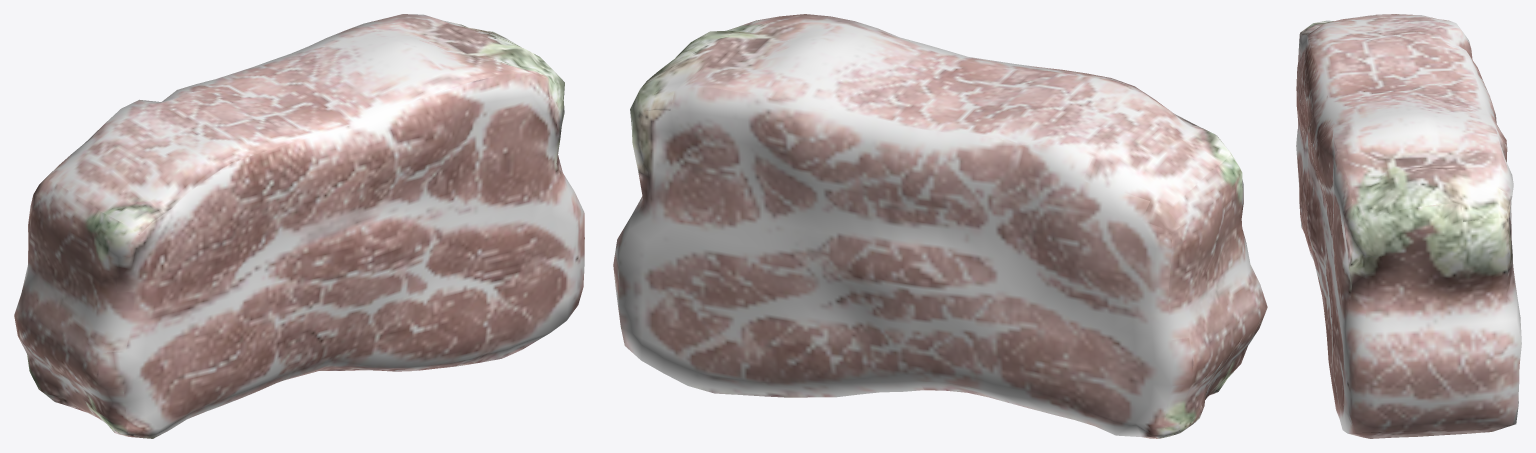
The model's file is animal_fat.a9f844df2d.glb.
The picture shows the model from 3 angles, left to right: view 1: azimuth 30°, elevation 25°; view 2: azimuth 150°, elevation 25°; view 3: azimuth 270°, elevation 25°; orthographic projection. The views are drawn at different scales.
Visible parts, largest first — view 1: animal_fat; view 2: animal_fat; view 3: animal_fat.
Part boxes in pixels (x1,y1,x2,y2): animal_fat: (14,14,584,438); animal_fat: (613,14,1267,438); animal_fat: (1296,14,1521,438).
Size of the model in its own units: 0.13 by 0.0717 by 0.0527.
Materials: 1 (1 with a texture image).
